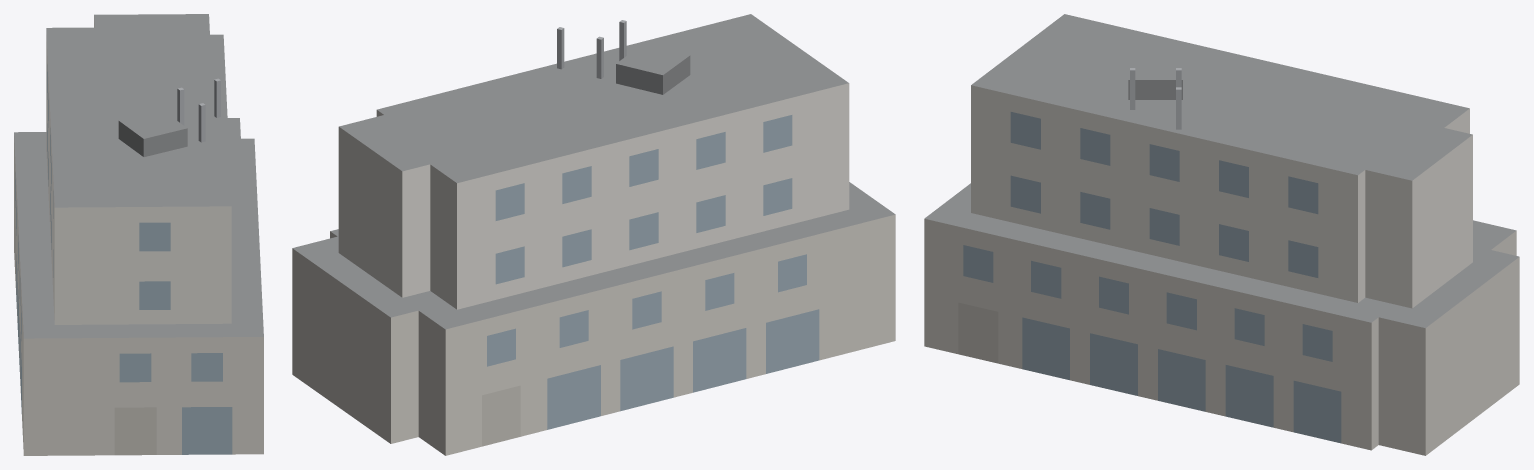
Rendered from doitt-102705__lod_1.glb.
3 renders of one model, left to right at view 1: azimuth 30°, elevation 25°; view 2: azimuth 150°, elevation 25°; view 3: azimuth 270°, elevation 25°, orthographic. The views are drawn at different scales.
Size of the model in its own units: 25.58 by 17.09 by 31.22.
